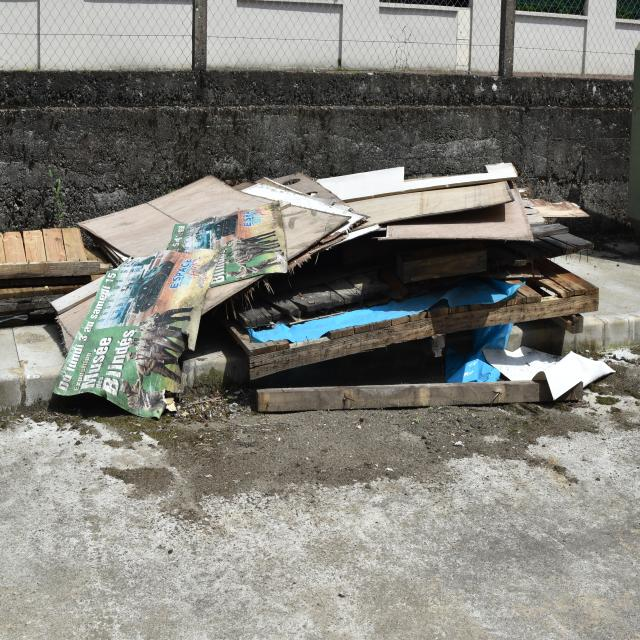entulho: (82, 172, 356, 315), (174, 246, 438, 388), (387, 178, 527, 245), (0, 229, 110, 300), (256, 382, 586, 402), (78, 201, 178, 262), (149, 176, 257, 230), (1, 324, 68, 410), (489, 252, 600, 302), (391, 177, 498, 217), (542, 349, 616, 402), (200, 262, 260, 321), (391, 243, 476, 284), (228, 315, 290, 364), (320, 169, 405, 202), (517, 191, 594, 225), (515, 228, 595, 258), (410, 165, 507, 189), (382, 224, 436, 246), (332, 222, 384, 244), (375, 268, 409, 300), (2, 231, 26, 263), (23, 230, 46, 262), (1, 314, 28, 325)
